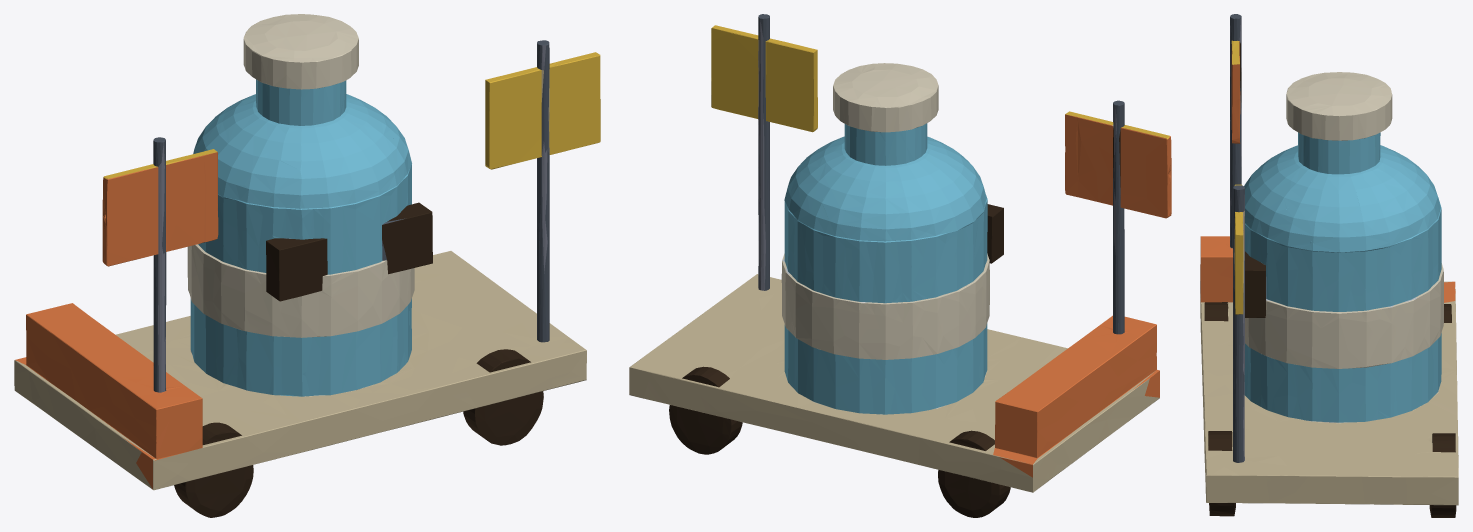
Rendered from float-tripo-A.glb.
3 views of the same model, side by side, from view 1: azimuth 30°, elevation 25°; view 2: azimuth 150°, elevation 25°; view 3: azimuth 270°, elevation 25° (orthographic). The views are drawn at different scales.
Visible parts, largest first — view 1: float; view 2: float; view 3: float.
Part boxes in pixels (x1,y1,x2,y2): float: (14,14,600,517); float: (629,14,1171,517); float: (1200,14,1458,517).
Size of the model in its own units: 2.86 by 2.16 by 1.4.
